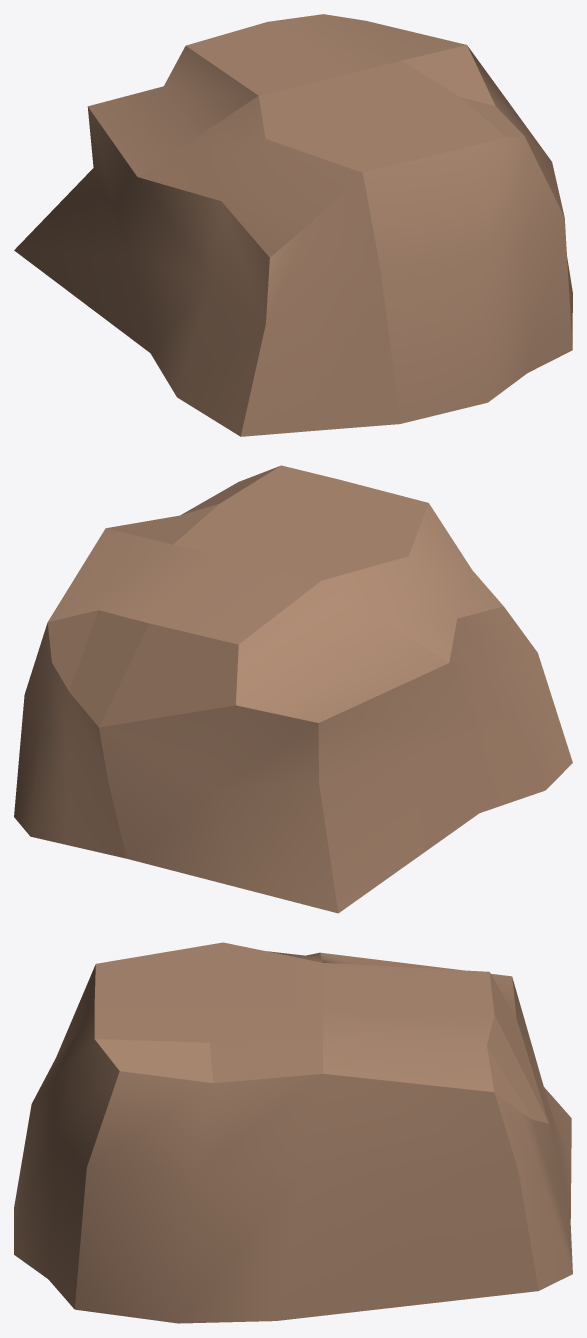
The model's file is CI_Rock_01.fbx.
3 views of the same model, one above another, from view 1: azimuth 30°, elevation 25°; view 2: azimuth 150°, elevation 25°; view 3: azimuth 270°, elevation 25° (orthographic). The views are drawn at different scales.
Parts seen in each view (by area): view 1: CI_Rock_01; view 2: CI_Rock_01; view 3: CI_Rock_01.
Boxes of the visible parts, x1=… form: CI_Rock_01: x1=14, y1=14, x2=572, y2=436; CI_Rock_01: x1=14, y1=465, x2=572, y2=913; CI_Rock_01: x1=14, y1=942, x2=572, y2=1323.
Size of the model in its own units: 59.48 by 32.44 by 66.44.
